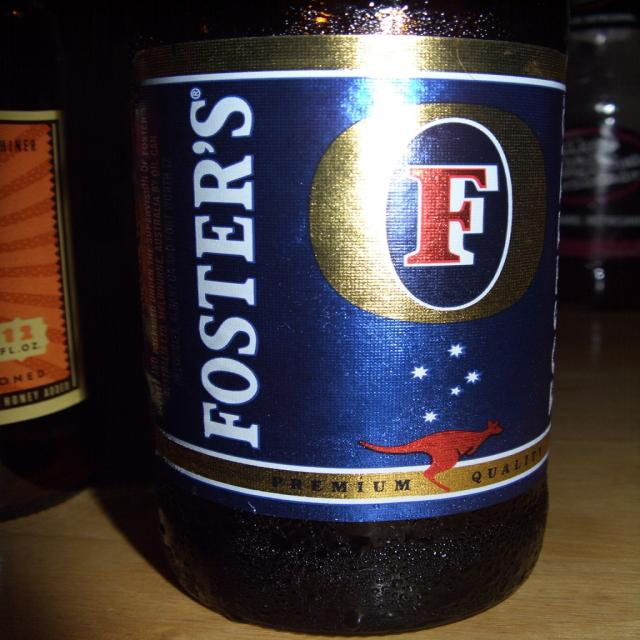fosters: (306, 99, 551, 328)
